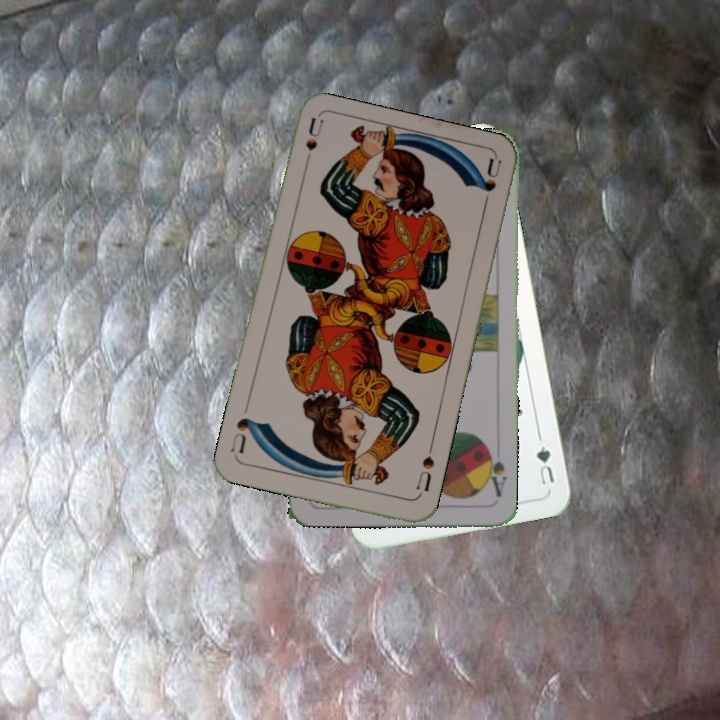GU: (532, 442, 557, 488)
SA: (481, 444, 509, 500)
SU: (299, 116, 326, 175), (412, 441, 437, 495)
